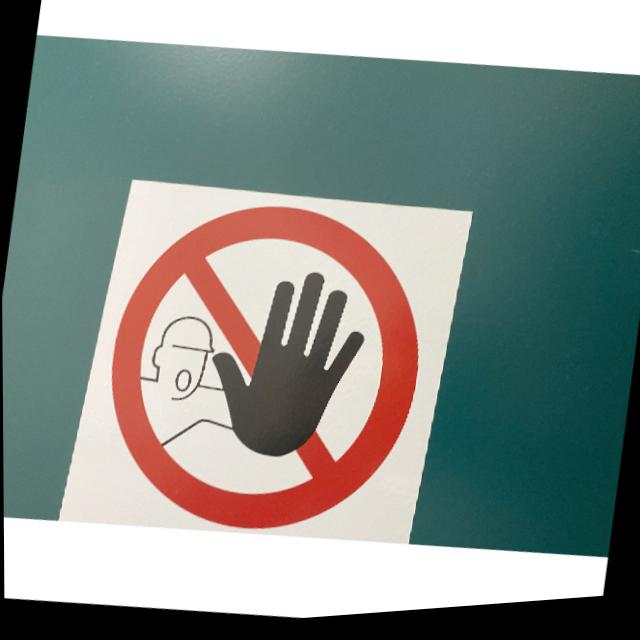No access for unauthorized persons: (88, 181, 441, 562)
